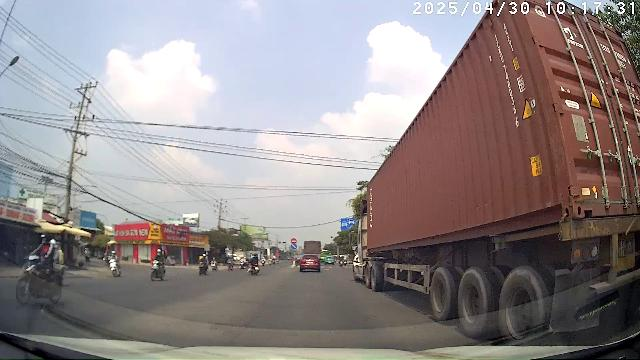102-cam-di-nguoc-chieu: (291, 238, 297, 243)
302a-huong-phai-di-vong-chuong-ngai-vat-1: (291, 244, 297, 248)
